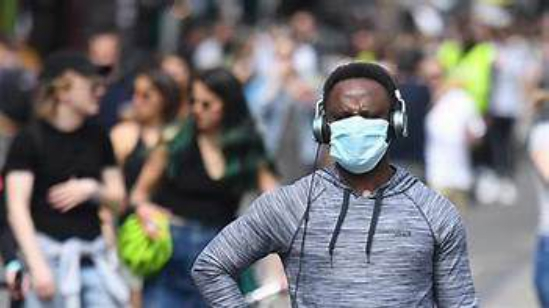no social distancing: (28, 46, 258, 200)
social distancing: (282, 53, 470, 286), (305, 117, 404, 180)
